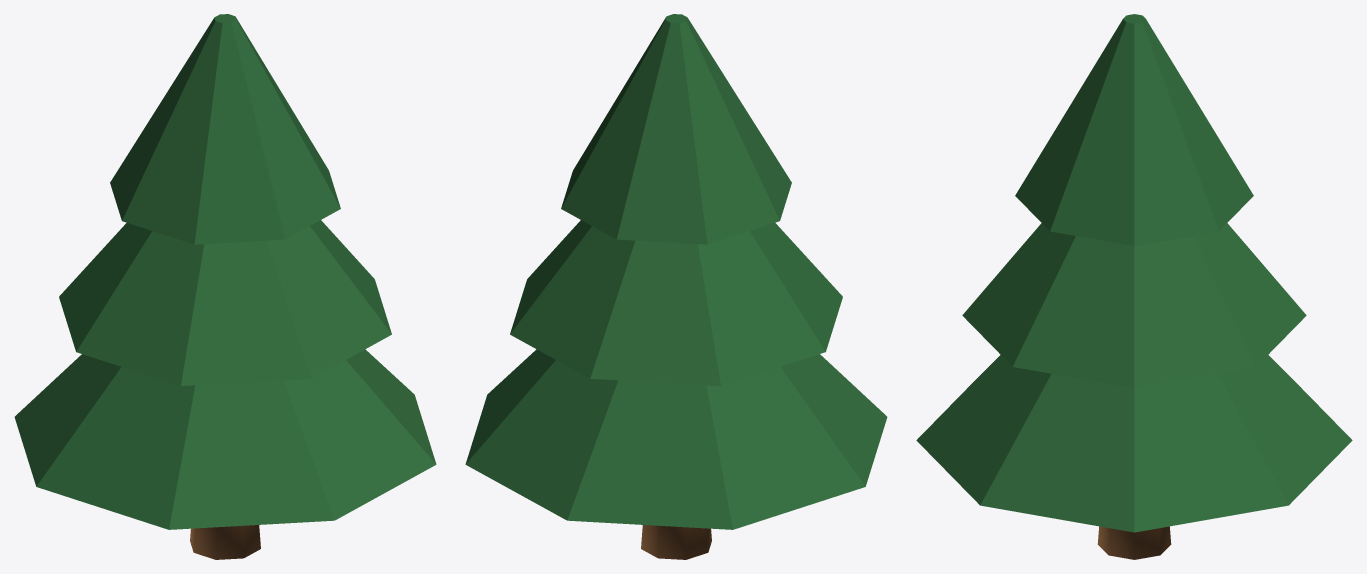
The model's file is pine.glb.
3 renders of one model, left to right at view 1: azimuth 30°, elevation 25°; view 2: azimuth 150°, elevation 25°; view 3: azimuth 270°, elevation 25°, orthographic.
Parts seen in each view (by area): view 1: Pine; view 2: Pine; view 3: Pine.
Part boxes in pixels (x1,y1,x2,y2): Pine: (14, 14, 436, 559); Pine: (465, 14, 887, 559); Pine: (916, 14, 1352, 559).
Size of the model in its own units: 1.9 by 2.52 by 1.9.
